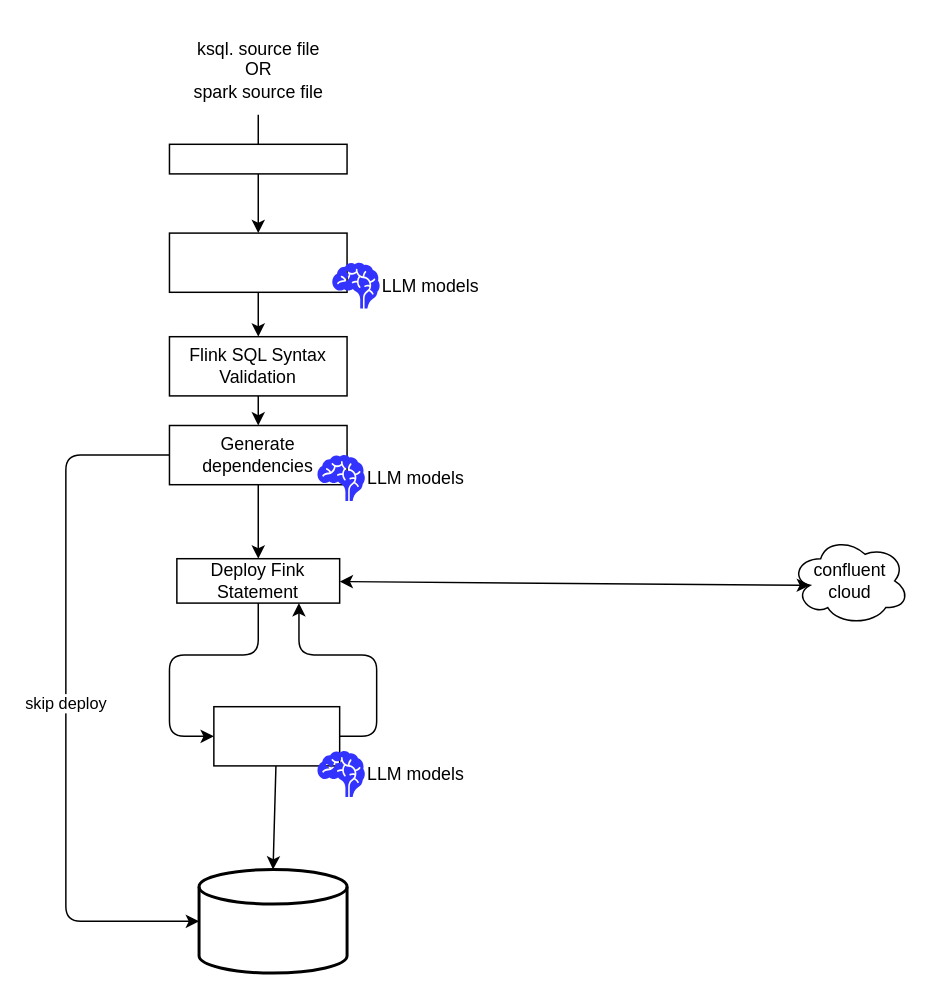
The diagram is 935 pixels wide and 999 high, and some of its shapes have lost their labels. Each missing label, with the centre of its shape:
"Clean input" belongs at [257,158].
"Flink statement in Staging" belongs at [272,920].
"Translator Agent" belongs at [257,262].
"Validation Agent" belongs at [276,735].
